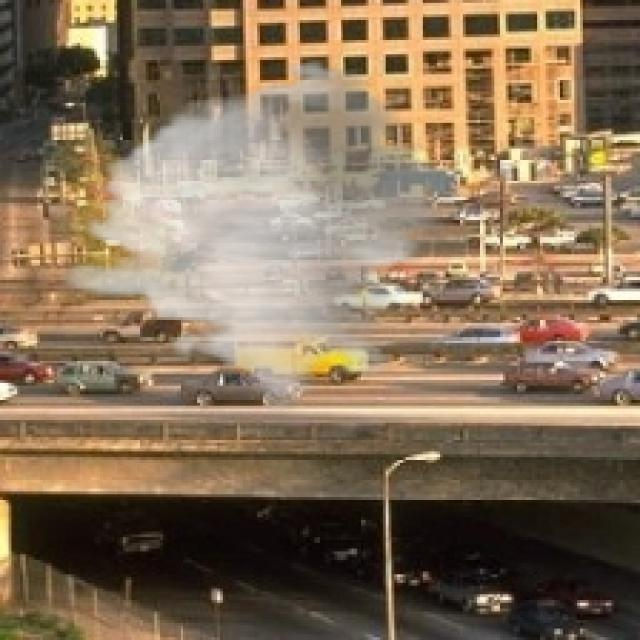smoke: (54, 57, 466, 414)
